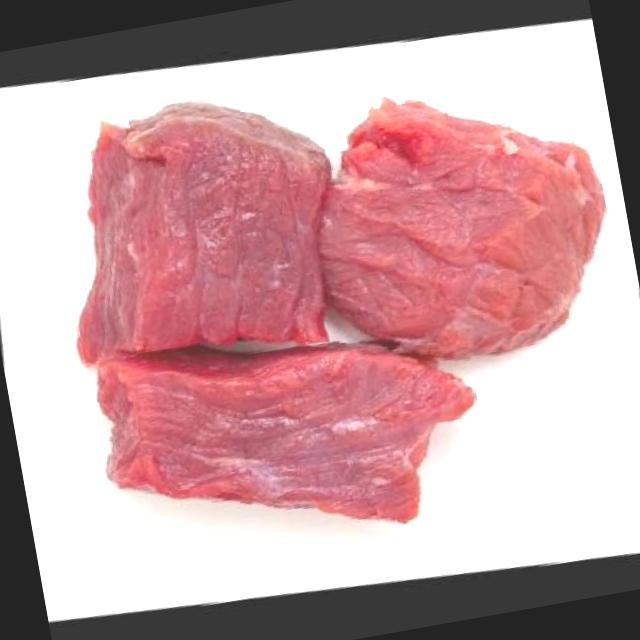beef: (70, 294, 502, 575), (41, 75, 346, 388), (318, 89, 630, 394)
